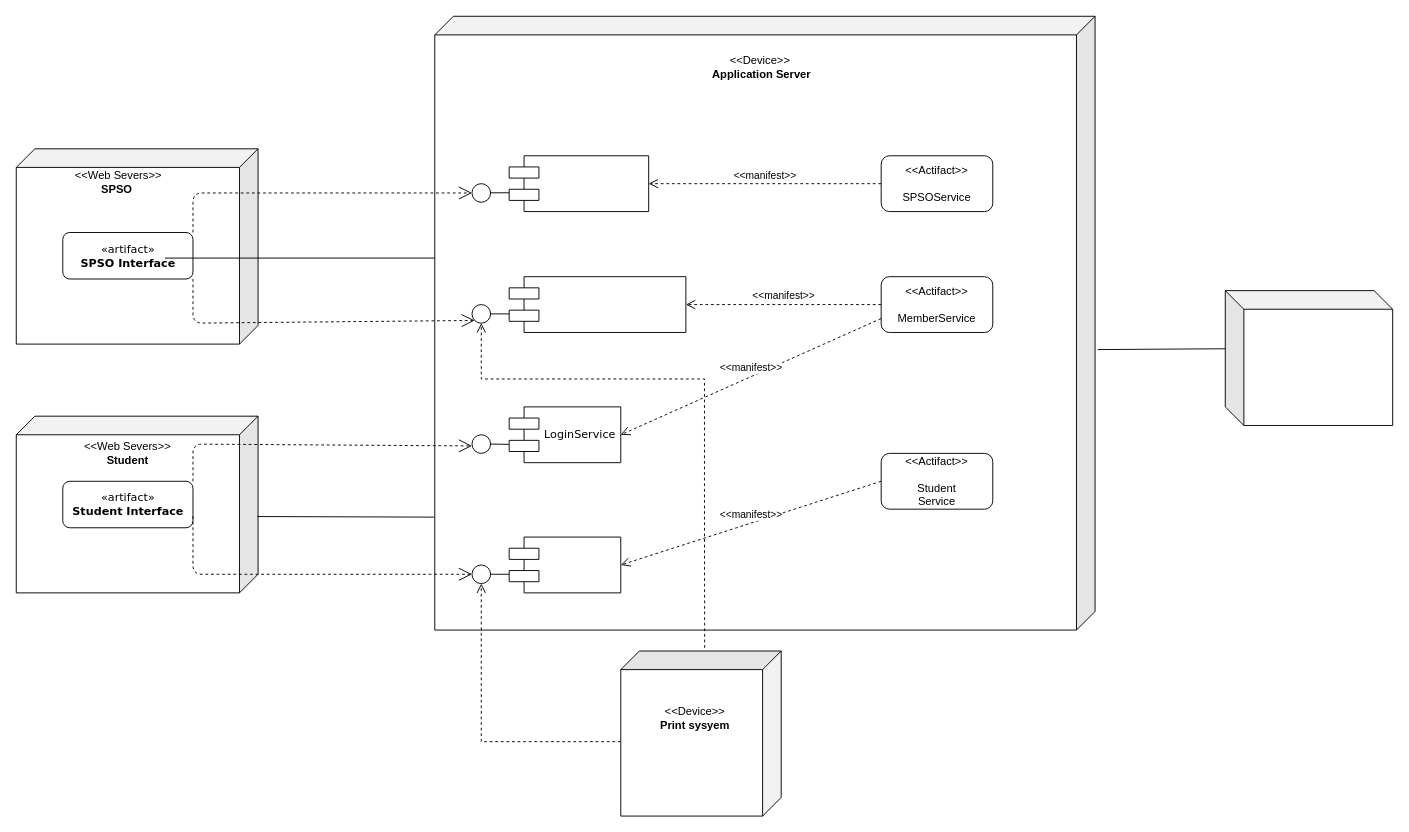
Some shapes in this 1409 by 832 pixel diagram are drawn without their labels. Here are the shapes that lost their labels. From the top down, the centre of each, then its label:
At (578,183): "ManageService".
At (597,304): "ViewPrintingLogService".
At (1308,357): "<<Device>> Database Sever".
At (564,564): "PrintService".
